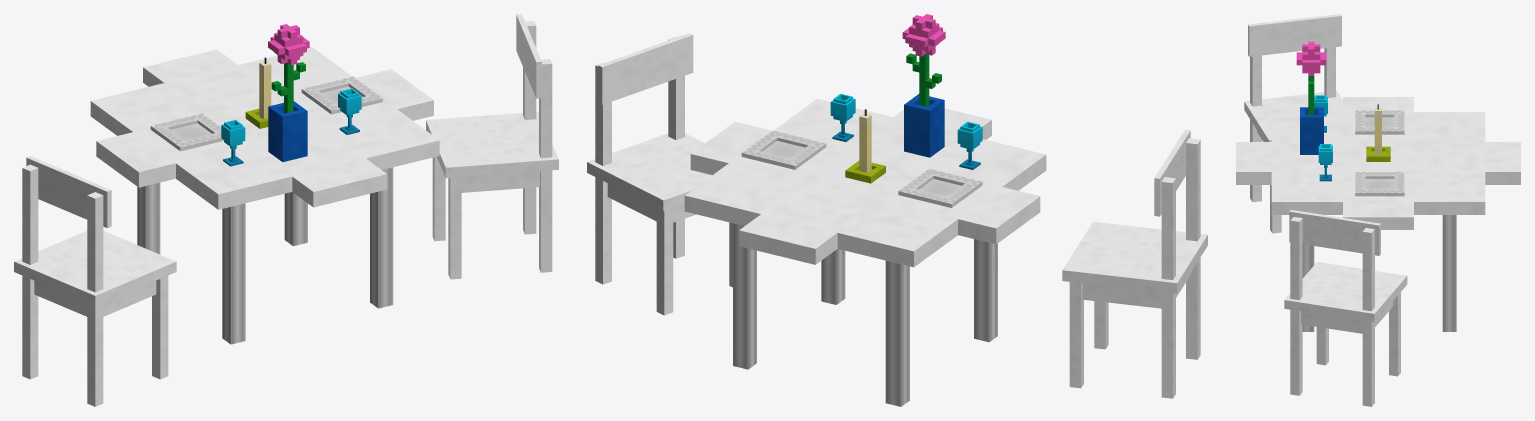
Rendered from Heaven_1.fbx.
3 renders of one model, left to right at view 1: azimuth 30°, elevation 25°; view 2: azimuth 150°, elevation 25°; view 3: azimuth 270°, elevation 25°, orthographic. The views are drawn at different scales.
Visible parts, largest first — view 1: Heaven_Stol, Heaven_Stol2; view 2: Heaven_Stol, Heaven_Stol2; view 3: Heaven_Stol, Heaven_Stol2.
Boxes of the visible parts, x1,y1,x2,y2 form: Heaven_Stol: [14, 14, 558, 406]; Heaven_Stol2: [150, 24, 382, 164]; Heaven_Stol: [587, 33, 1207, 406]; Heaven_Stol2: [741, 14, 982, 207]; Heaven_Stol: [1236, 14, 1520, 406]; Heaven_Stol2: [1296, 41, 1404, 196].
Size of what is drawn, in the model's own units: 3.93 by 2.03 by 2.12.
1 material, 1 textured.
